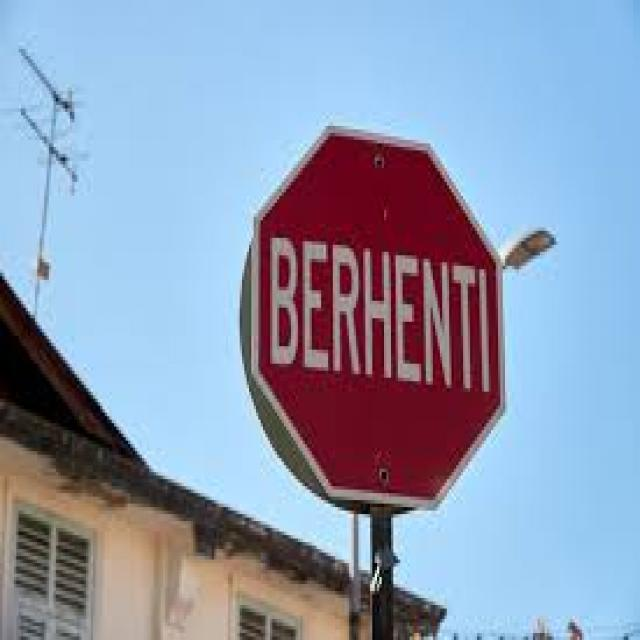stop-sign: (247, 97, 542, 479)
